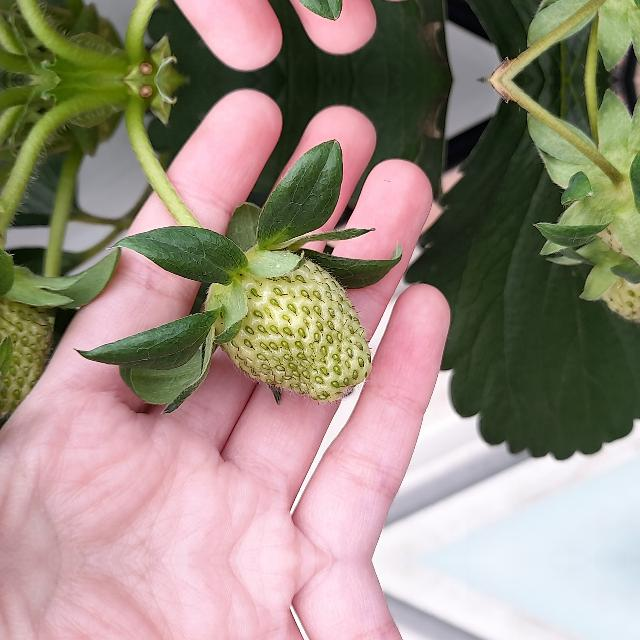Health_25: (219, 256, 371, 402)
